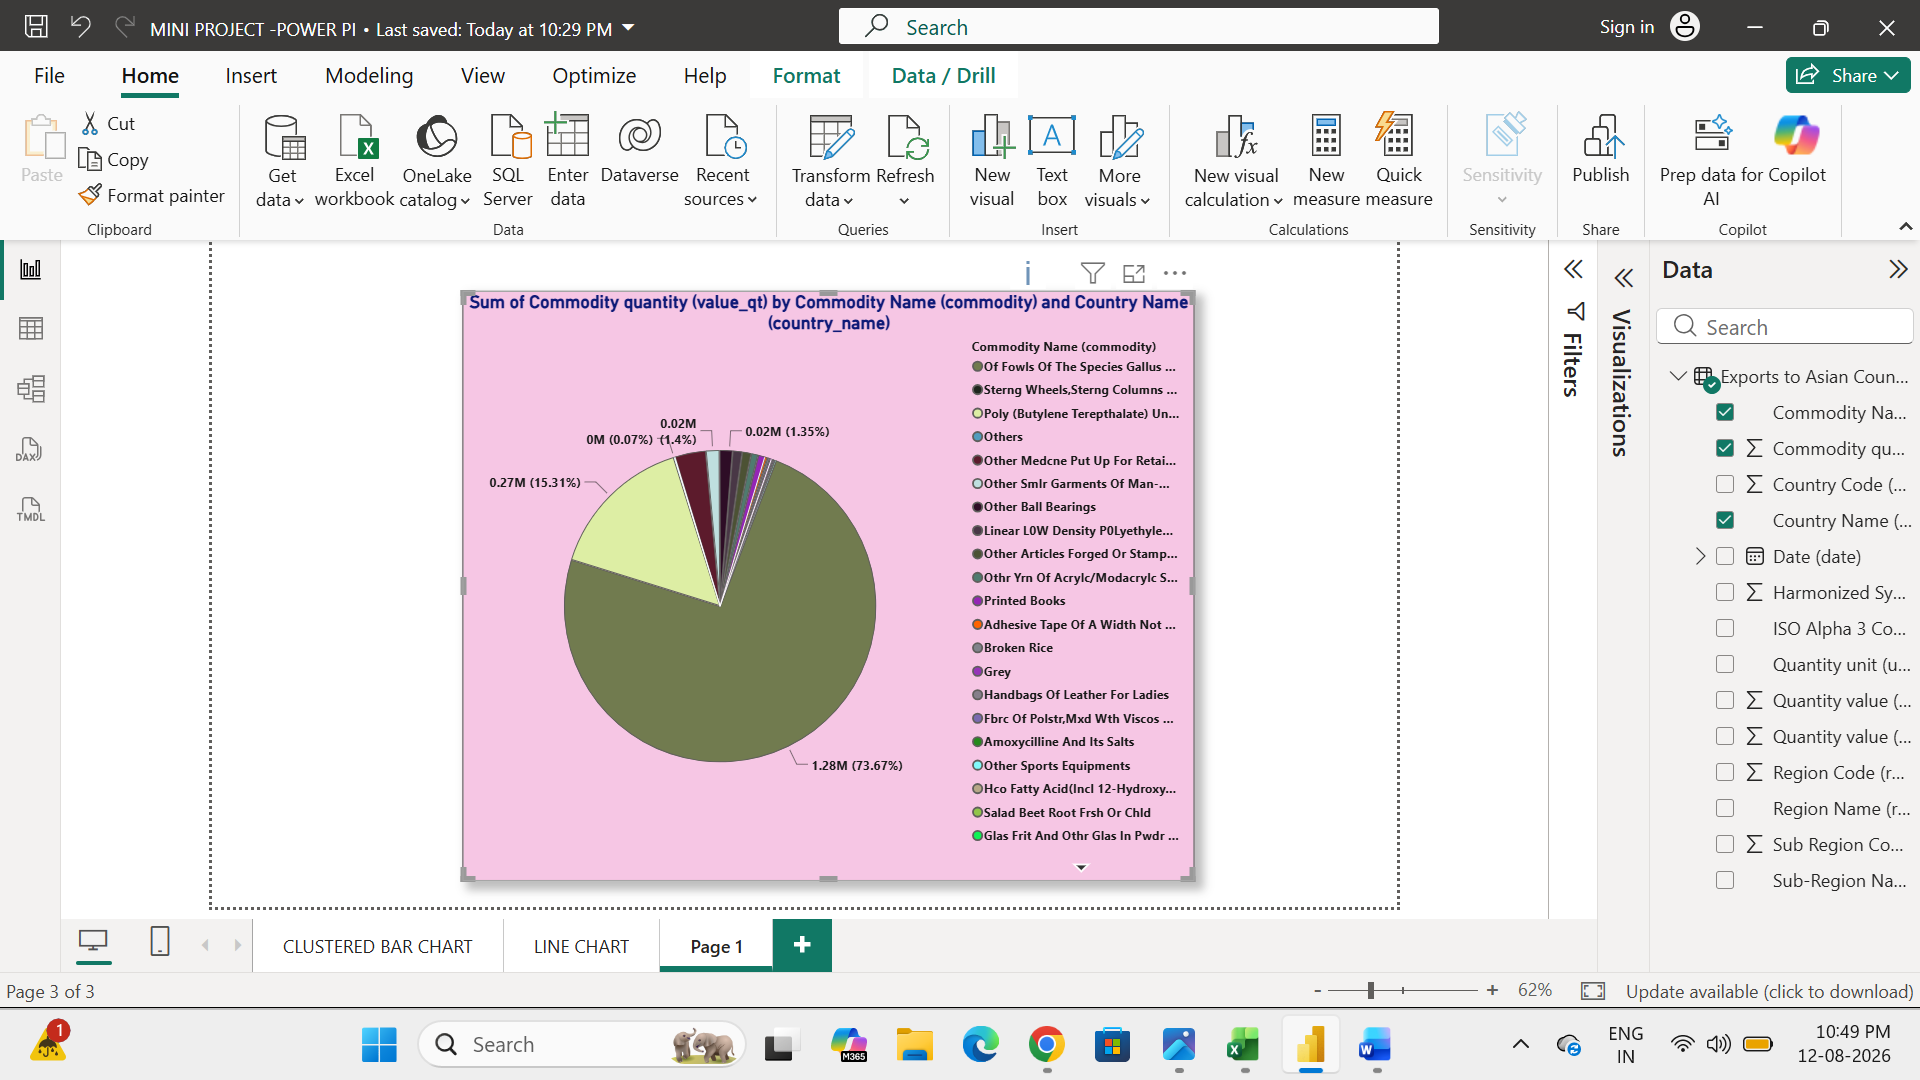

The page's visual inventory and layout, read from the dashboard file:
{"tool":"powerbi","page":{"name":"PIE CHART","canvas":[1280,720],"ordinal":2},"visuals":[{"type":"pieChart","fields":{"Category":["Exports to Asian Countries_Samp.Commodity Name (commodity)"],"Y":["Sum(Exports to Asian Countries_Samp.Commodity quantity (value_qt))"],"Series":["Exports to Asian Countries_Samp.Country Name (country_name)"]},"box":[270.4,55.1,790.2,636.4],"z":0}]}

Visuals, with their boxes on the page's 1280x720 design canvas (x1, y1, x2, y2). These are canvas units, not pixel positions in the 1920x1080 screenshot, which may show the page scaled, cropped or inside an application window:
pieChart - Exports to Asian Countries_Samp.Commodity Name (commodity) x Sum(Exports to Asian Countries_Samp.Commodity quantity (value_qt)): [270, 55, 1061, 692]
